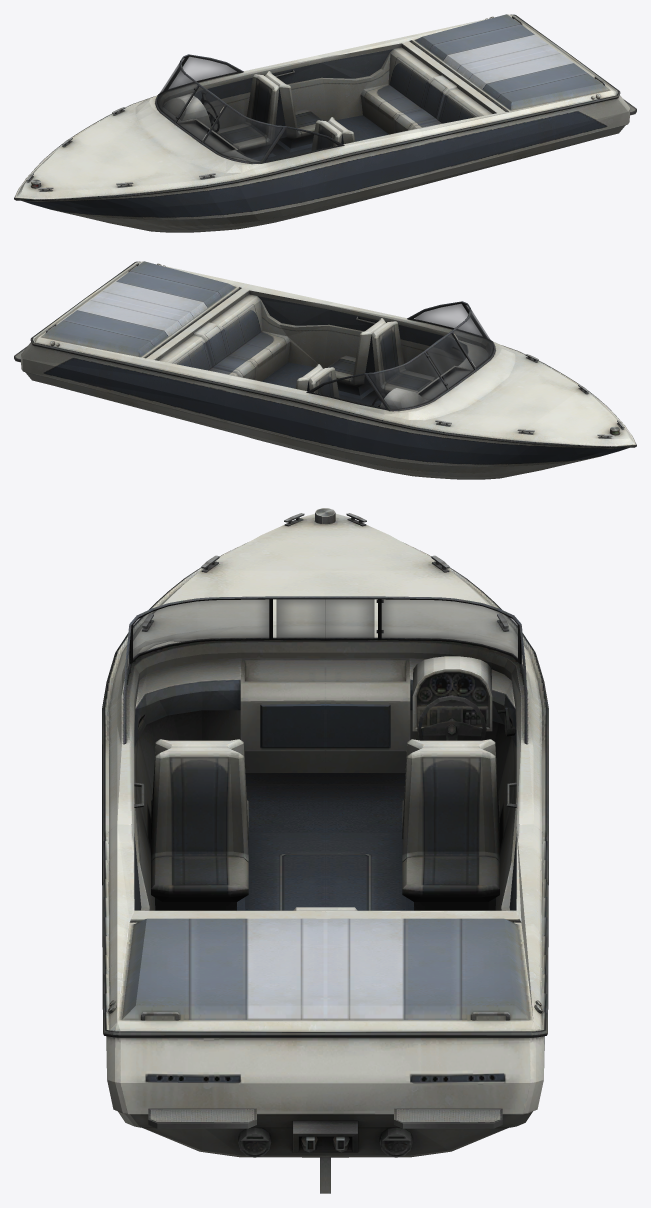
The model's file is S5AG2IB5Q2O5JTPFJFR6AXXL6.obj.
The picture shows the model from 3 angles, top to bottom: view 1: azimuth 30°, elevation 25°; view 2: azimuth 150°, elevation 25°; view 3: azimuth 270°, elevation 25°; orthographic projection. The views are drawn at different scales.
Parts seen in each view (by area): view 1: Object_Model001_Material001, Object_Model001_Material002; view 2: Object_Model001_Material001, Object_Model001_Material002; view 3: Object_Model001_Material001, Object_Model001_Material002.
Part boxes in pixels (<box>): Object_Model001_Material001: <box>14,14,636,232</box>; Object_Model001_Material002: <box>157,57,336,162</box>; Object_Model001_Material001: <box>14,261,636,479</box>; Object_Model001_Material002: <box>312,304,493,409</box>; Object_Model001_Material001: <box>102,508,548,1193</box>; Object_Model001_Material002: <box>127,599,523,676</box>.
Size of the model in its own units: 2.5 by 0.5343 by 0.8343.
